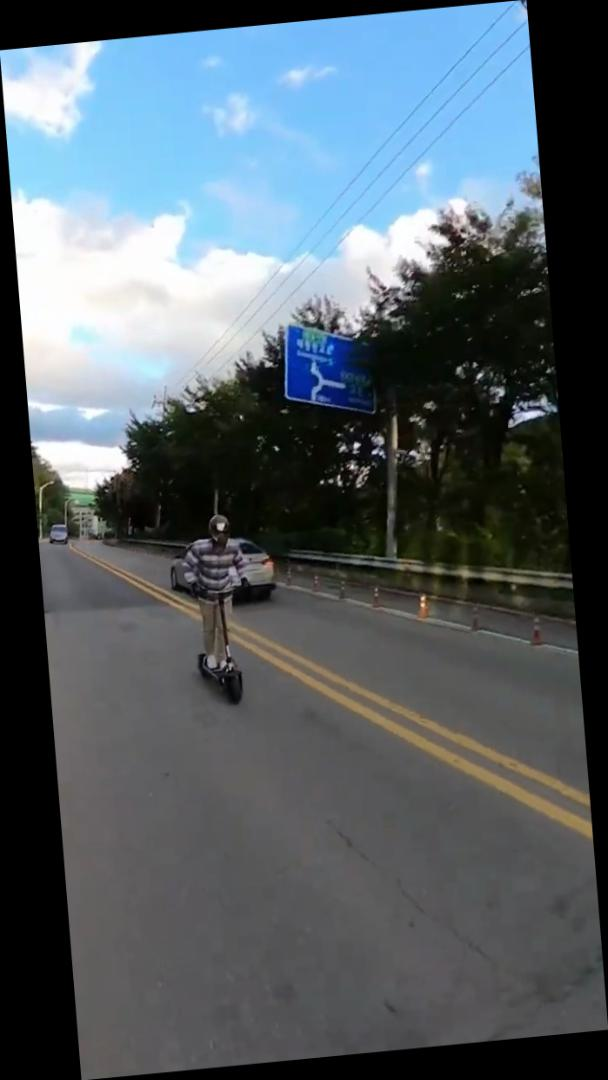helmet: (179, 508, 259, 710)
